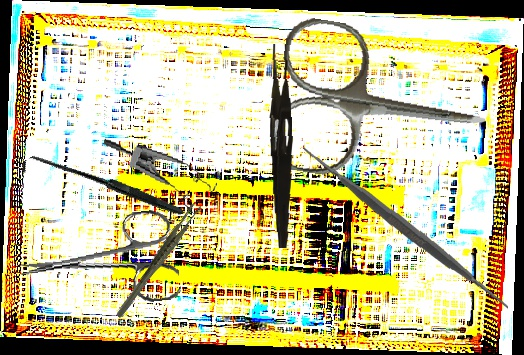Dressing Forceps: (264, 43, 299, 249)
Hook Surgical: (18, 104, 185, 273)
Iris Scissors: (266, 14, 497, 199), (15, 207, 182, 318)
Spatula Surgical: (303, 124, 509, 331)
Speculum: (93, 138, 222, 217)
Tissue Forceps: (97, 200, 219, 320)
